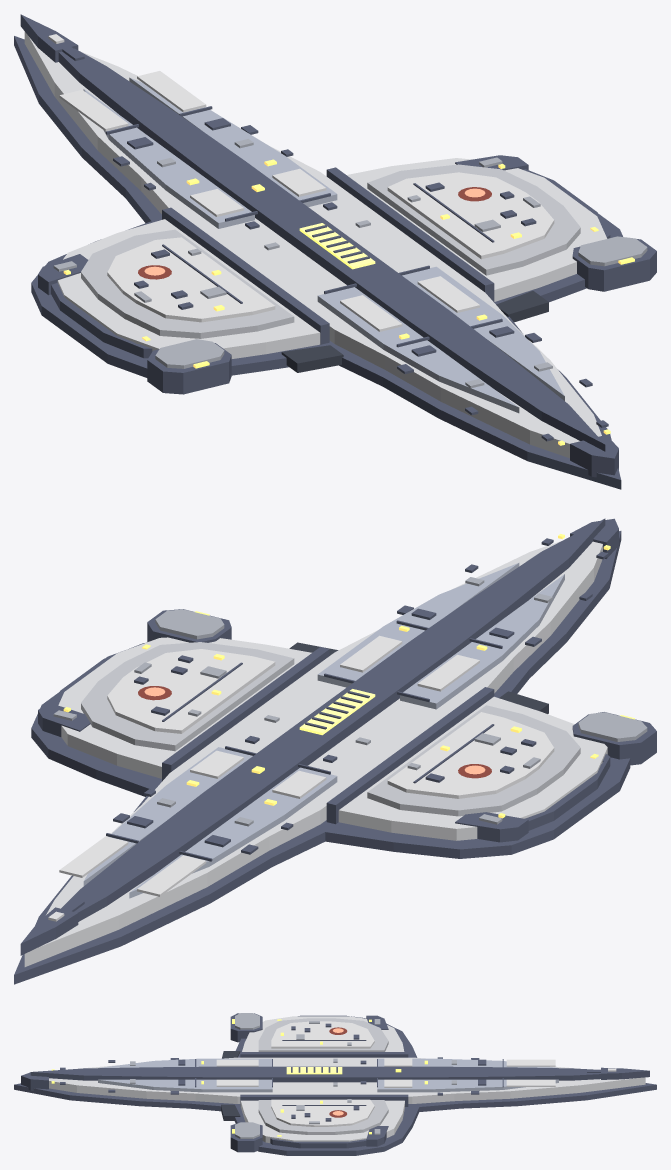
File: civilian_freighter.glb
The picture shows the model from 3 angles, top to bottom: view 1: azimuth 30°, elevation 25°; view 2: azimuth 150°, elevation 25°; view 3: azimuth 270°, elevation 25°; orthographic projection. The views are drawn at different scales.
Visible parts, largest first — view 1: CivilianFreighter; view 2: CivilianFreighter; view 3: CivilianFreighter.
Part boxes in pixels (x1,y1,x2,y2): CivilianFreighter: [14, 14, 656, 489]; CivilianFreighter: [14, 518, 656, 984]; CivilianFreighter: [14, 1013, 656, 1155].
Size of the model in its own units: 2.24 by 0.16 by 4.6.
